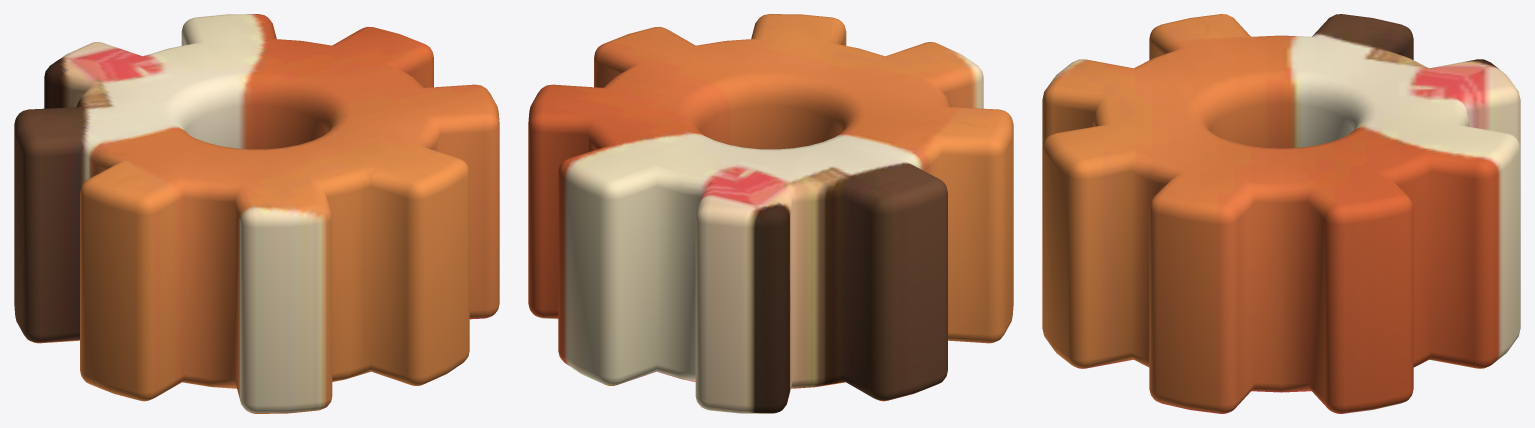
The model's file is Pin_Model_14.fbx.
3 renders of one model, left to right at view 1: azimuth 30°, elevation 25°; view 2: azimuth 150°, elevation 25°; view 3: azimuth 270°, elevation 25°, orthographic.
Visible parts, largest first — view 1: Pin_Model_14; view 2: Pin_Model_14; view 3: Pin_Model_14.
Boxes of the visible parts, x1,y1,x2,y2 form: Pin_Model_14: [14, 14, 499, 413]; Pin_Model_14: [528, 14, 1013, 413]; Pin_Model_14: [1042, 14, 1520, 413].
Size of the model in its own units: 0.6239 by 0.2995 by 0.6239.
1 material, 1 textured.
